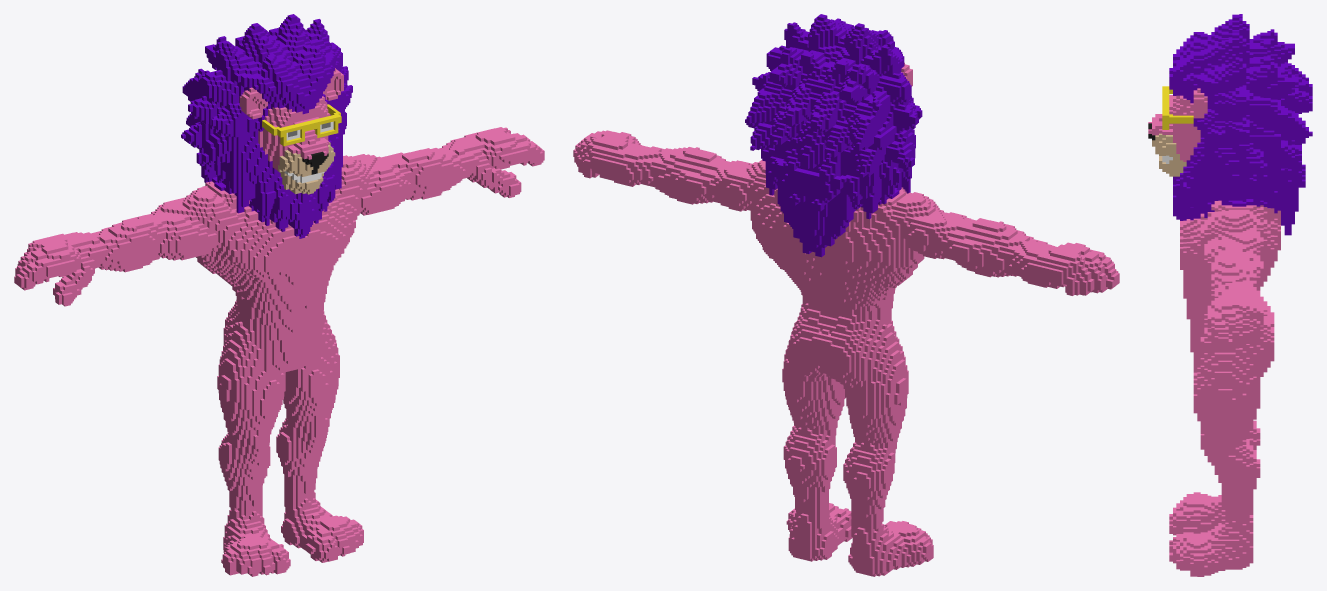
Rendered from 709-CwuUTd7U.glb.
3 renders of one model, left to right at view 1: azimuth 30°, elevation 25°; view 2: azimuth 150°, elevation 25°; view 3: azimuth 270°, elevation 25°, orthographic. The views are drawn at different scales.
Visible parts, largest first — view 1: big_smile; view 2: big_smile; view 3: big_smile.
Boxes of the visible parts, bbox=[...] form: big_smile: bbox=[14, 14, 544, 576]; big_smile: bbox=[573, 14, 1119, 576]; big_smile: bbox=[1148, 14, 1312, 576].
Size of the model in its own units: 17.2 by 16.5 by 4.7.
Materials: 4 (4 with a texture image).
